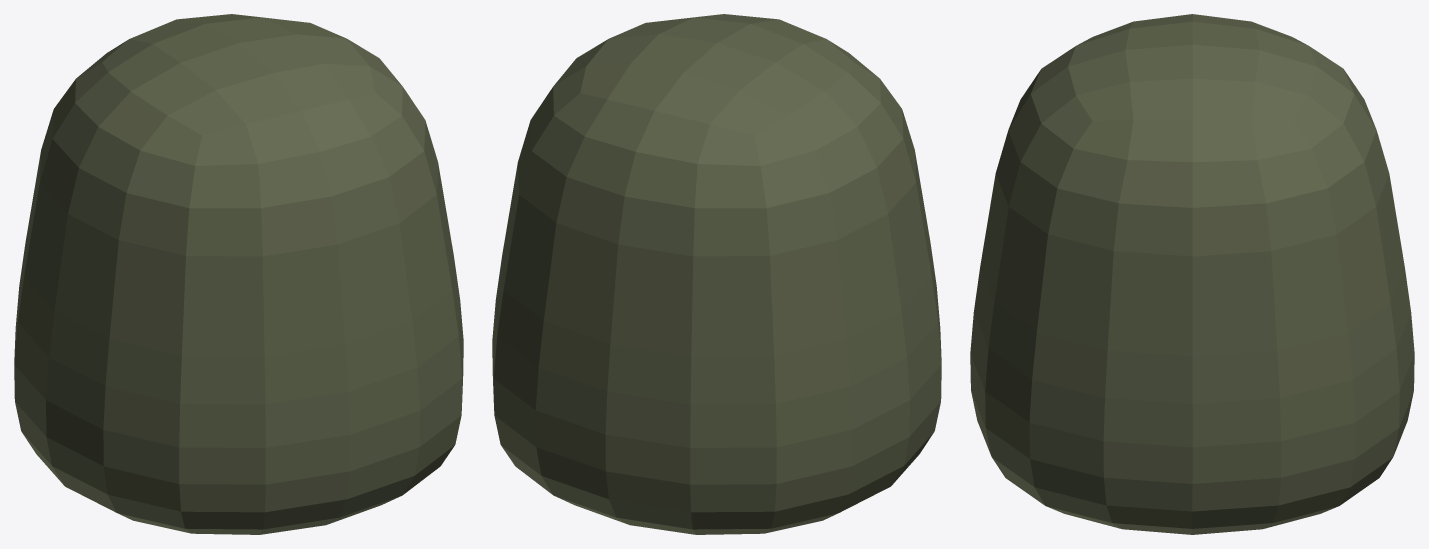
File: Lettuce_Crop.glb
3 views of the same model, side by side, from view 1: azimuth 30°, elevation 25°; view 2: azimuth 150°, elevation 25°; view 3: azimuth 270°, elevation 25° (orthographic).
Visible parts, largest first — view 1: Lettuce_Crop; view 2: Lettuce_Crop; view 3: Lettuce_Crop.
Boxes of the visible parts, <box> form: Lettuce_Crop: <box>14,14,463,534</box>; Lettuce_Crop: <box>492,14,941,534</box>; Lettuce_Crop: <box>970,14,1414,534</box>.
Bounding box in the file's own units: 0.3754 × 0.4086 × 0.3754.
